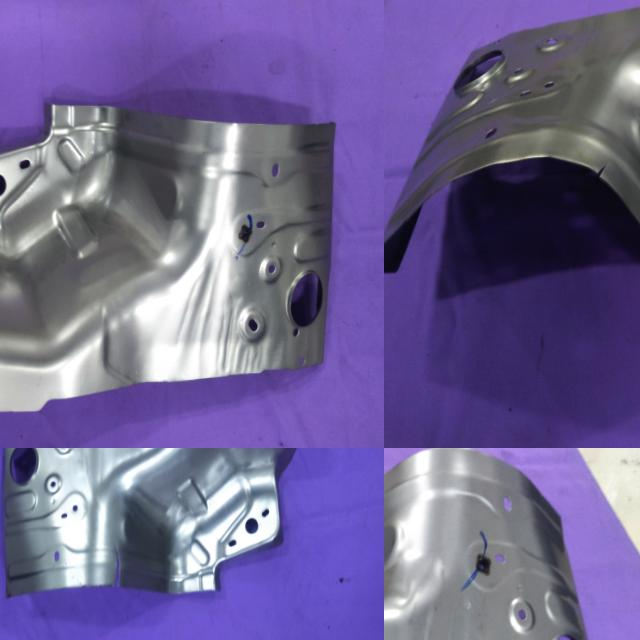Defect: (110, 540, 126, 592), (594, 152, 612, 184)
Healthy: (0, 90, 342, 417), (384, 448, 613, 640)
rust: (6, 578, 107, 597)
